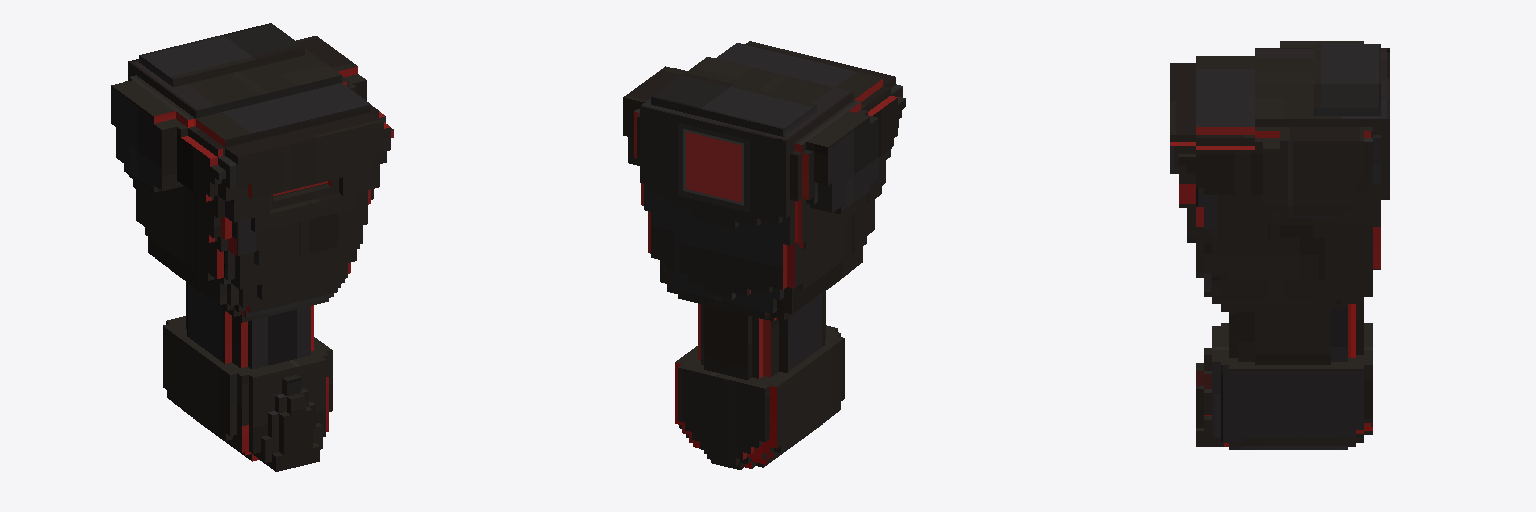
The picture shows the model from 3 angles: view 1: azimuth 30°, elevation 25°; view 2: azimuth 150°, elevation 25°; view 3: azimuth 270°, elevation 25°; orthographic projection.
Visible parts, largest first — view 1: Mech_-_Chonk-4; view 2: Mech_-_Chonk-4; view 3: Mech_-_Chonk-4.
Part boxes in pixels (x1,y1,x2,y2): Mech_-_Chonk-4: (111, 23, 393, 471); Mech_-_Chonk-4: (623, 41, 905, 469); Mech_-_Chonk-4: (1170, 41, 1389, 449).
Bounding box in the file's own units: 2.8 × 4.7 × 2.6.
Materials: 1 (1 with a texture image).